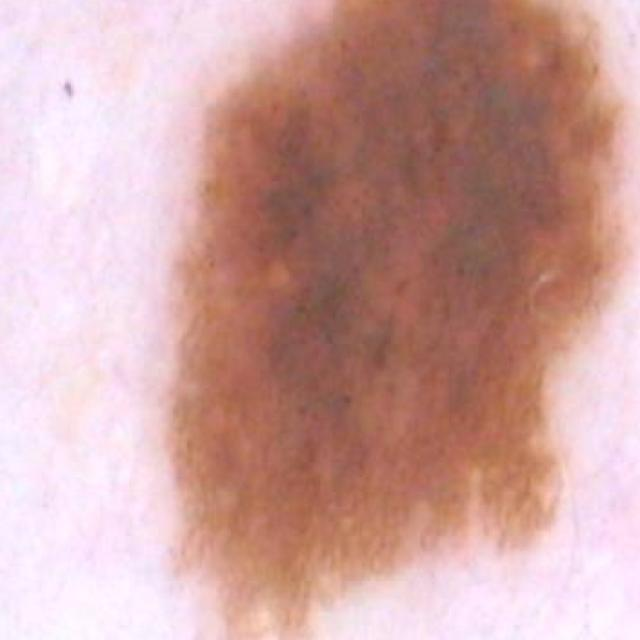NV: (83, 0, 640, 634)
